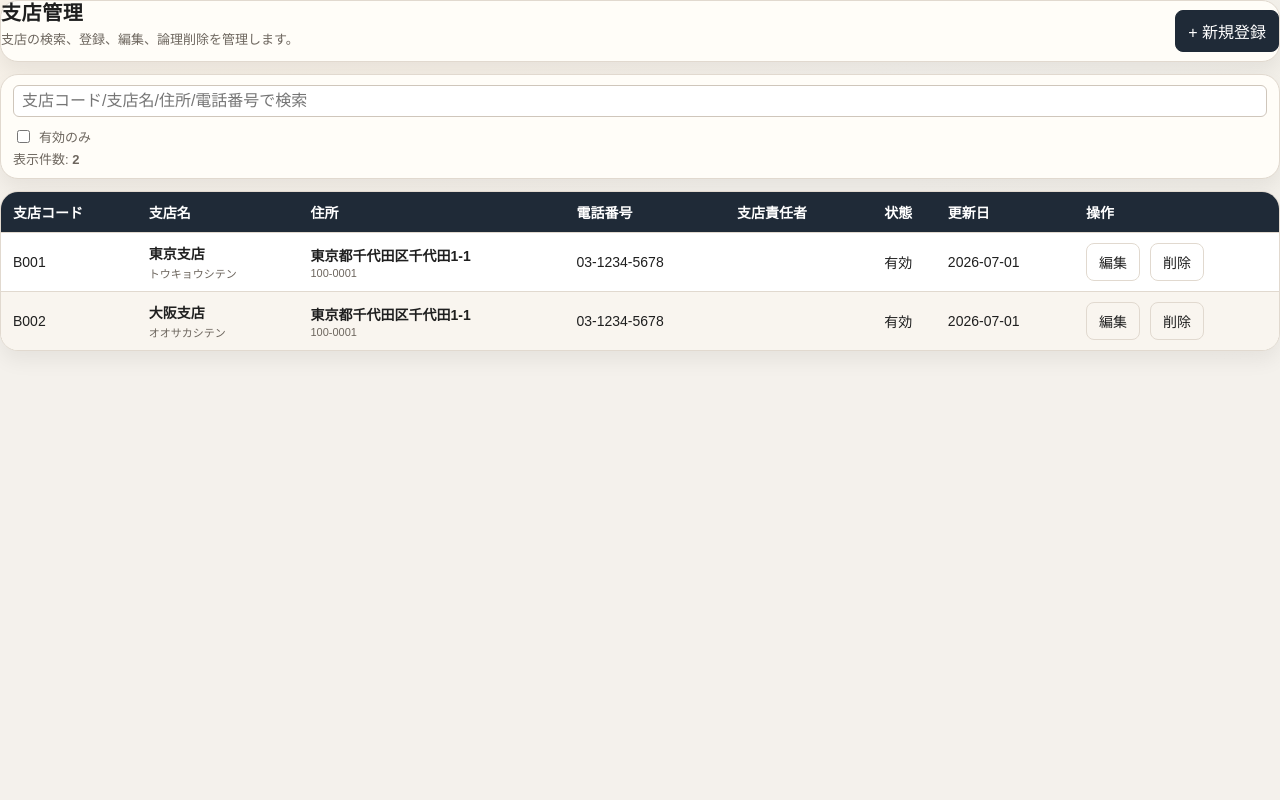
Test: 支店管理画面 › 支店編集ができる
Check: the text "東京支店" is shown, box x1=149 y1=246 x2=205 y2=262
Click the button "編集" in the row of "B001" at (1113,262), box x1=1086 y1=243 x2=1140 y2=281
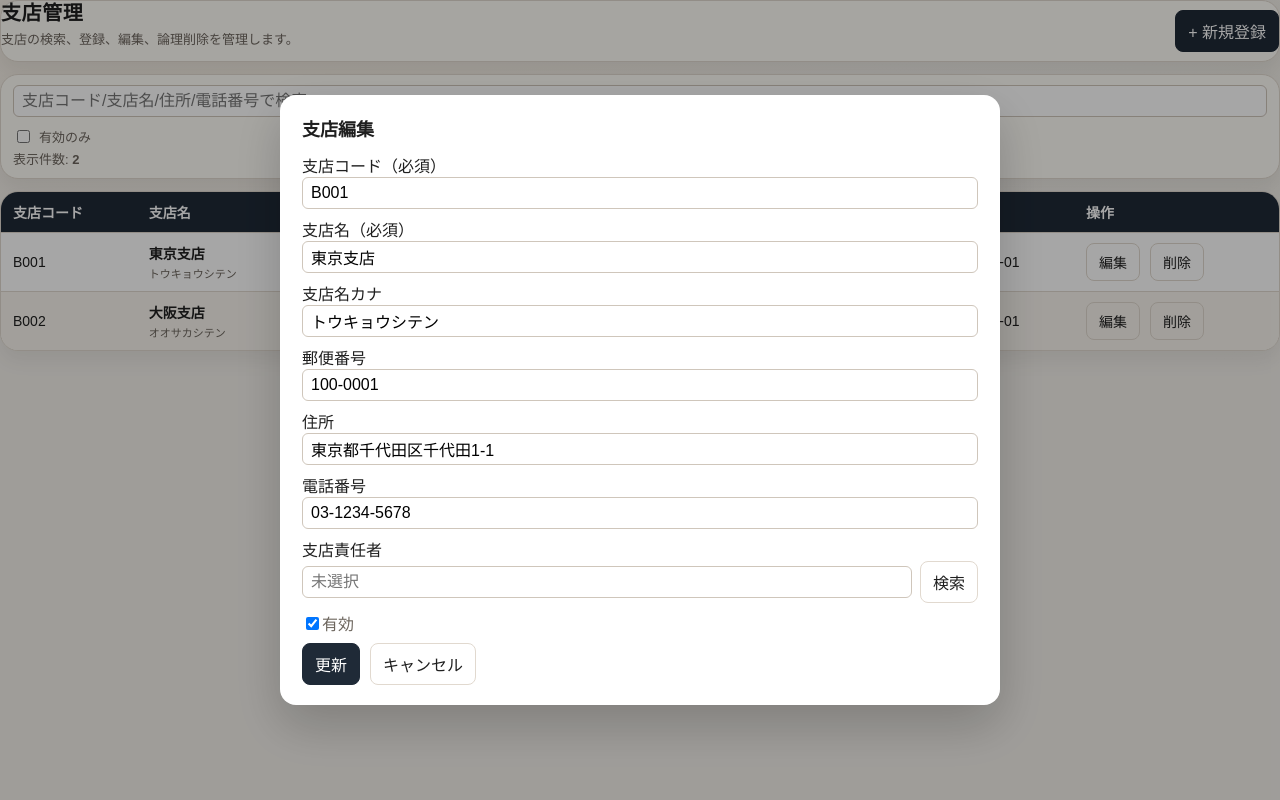
Replace the text in the field with placeholder "例: 東京支店" below "支店名（必須）" with "東京本店" at (640,257), box x1=302 y1=241 x2=978 y2=273
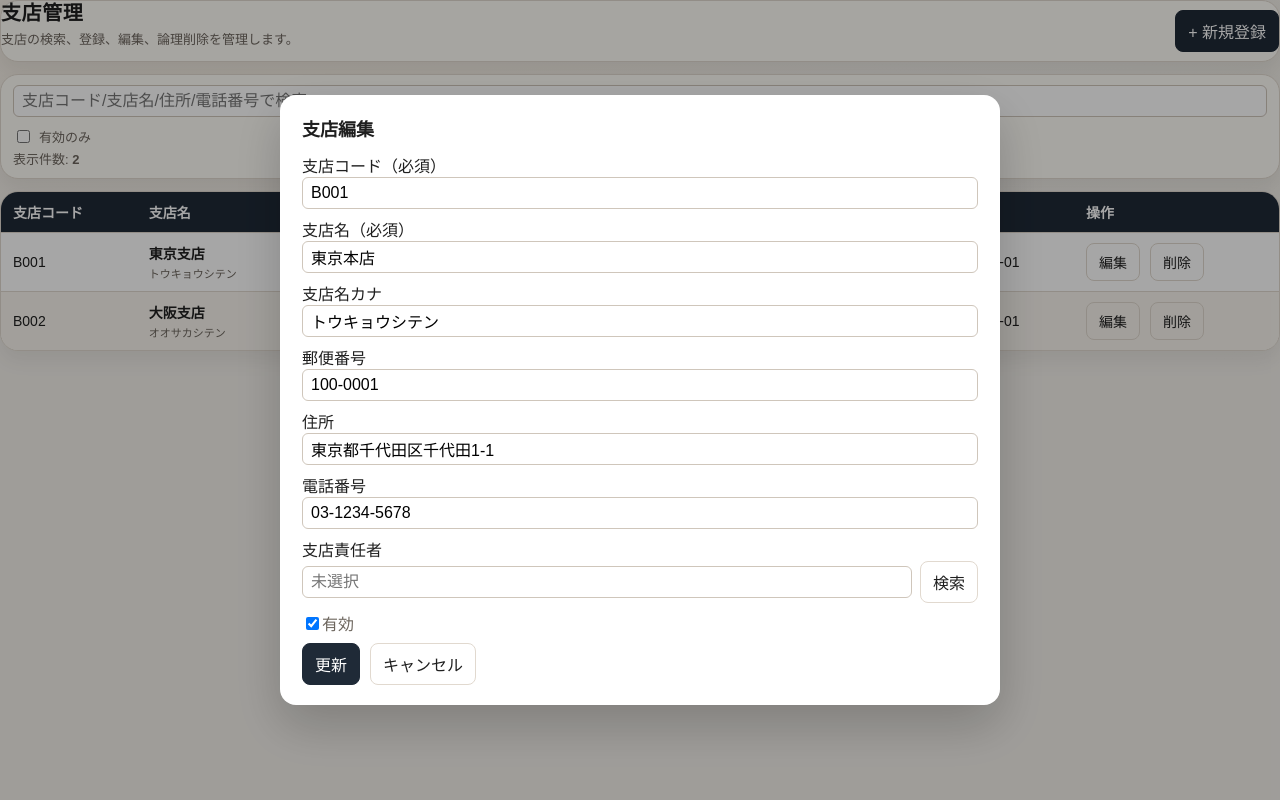
Click the button "更新" at (331,664), box x1=302 y1=643 x2=360 y2=685
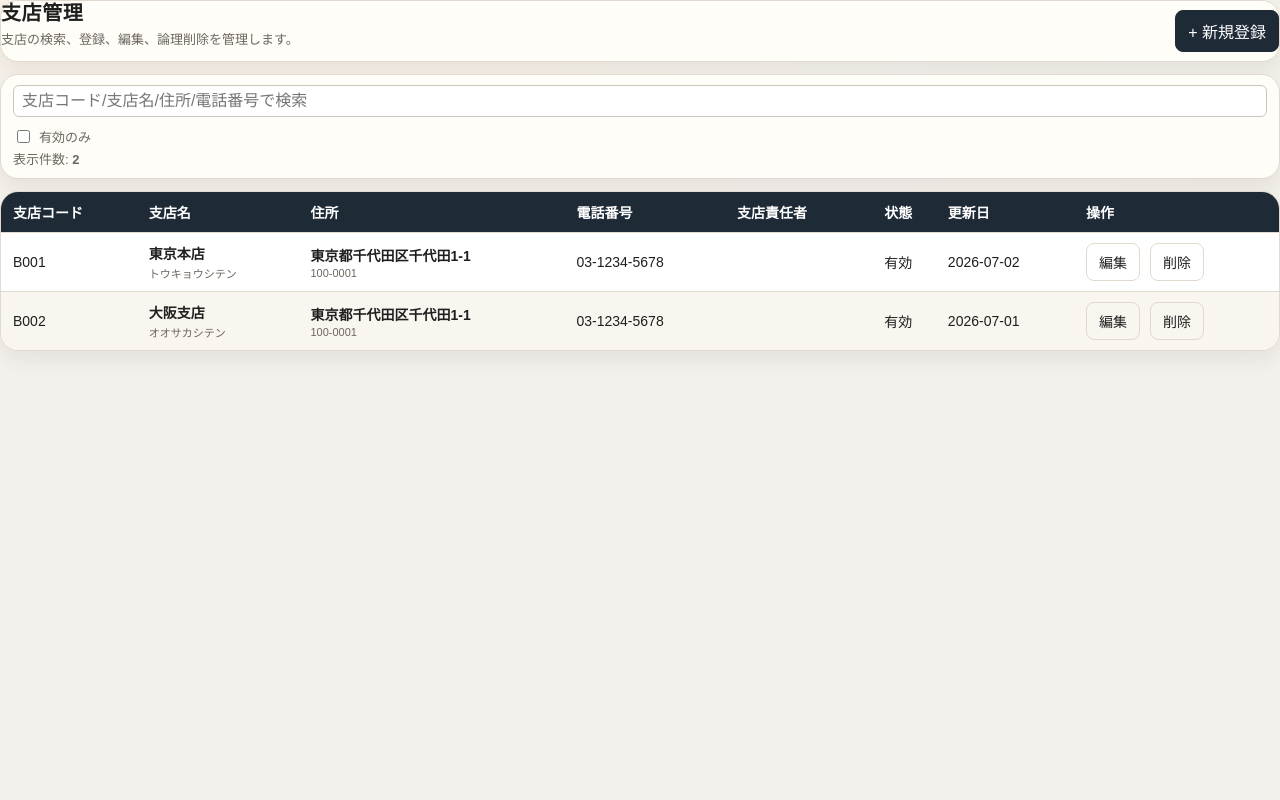
Check: the text "東京本店" is shown, box x1=149 y1=246 x2=205 y2=262
